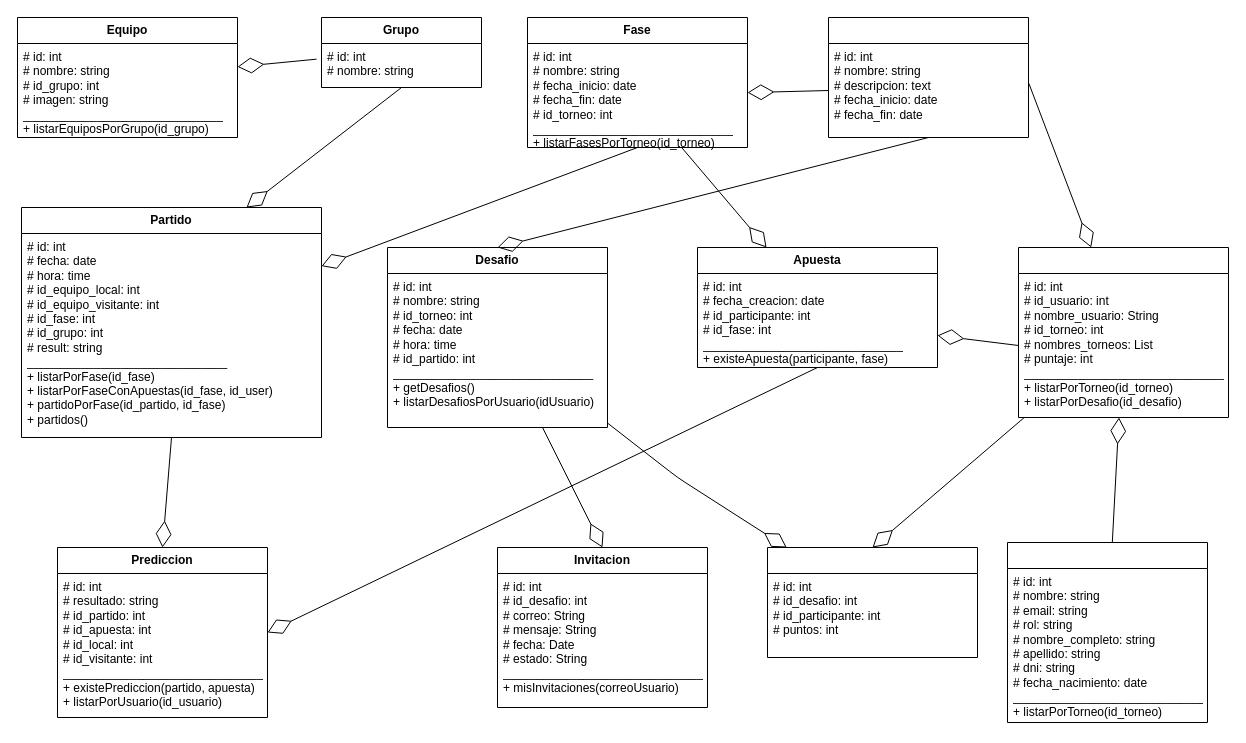
Some shapes in this 1246 by 743 pixel diagram are drawn without their labels. The shapes that lost their labels are listed below. From the top down, each one's box as (x1, y1, x2, y2) in pixels, then its label:
(828, 16, 1028, 138): Torneo
(1018, 246, 1228, 418): Participante
(766, 546, 978, 658): DesafioParticipante
(1006, 542, 1208, 722): Usuario
